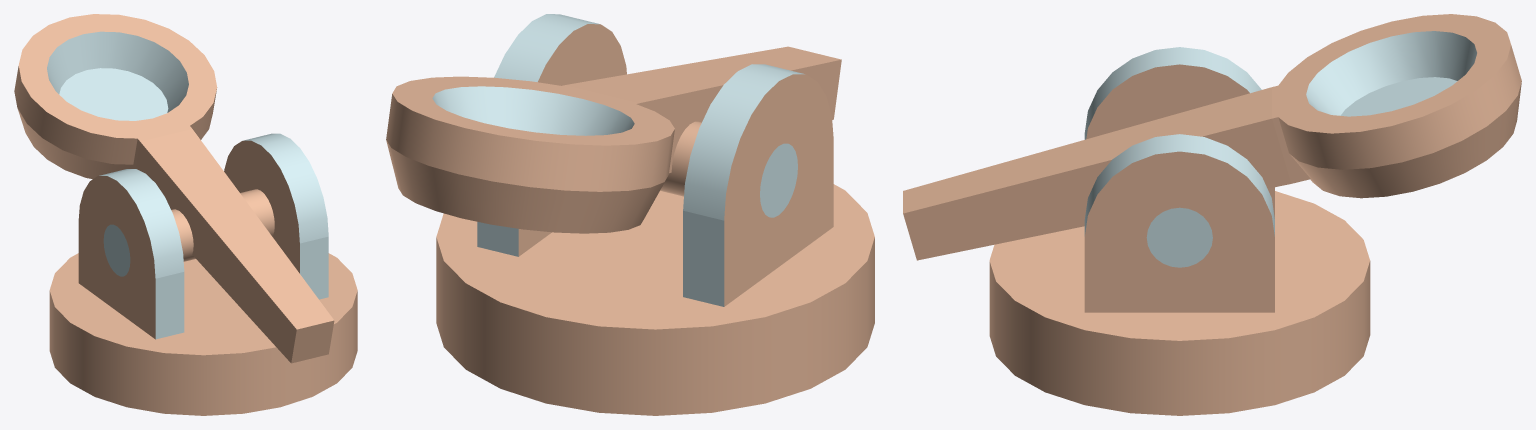
The model's file is weapon_catapult.glb.
3 renders of one model, left to right at view 1: azimuth 30°, elevation 25°; view 2: azimuth 150°, elevation 25°; view 3: azimuth 270°, elevation 25°, orthographic. The views are drawn at different scales.
Parts seen in each view (by area): view 1: weapon_catapult, catapult; view 2: weapon_catapult, catapult; view 3: weapon_catapult, catapult.
Boxes of the visible parts, bbox=[...] form: weapon_catapult: bbox=[49, 133, 357, 415]; catapult: bbox=[14, 14, 334, 363]; weapon_catapult: bbox=[436, 14, 874, 415]; catapult: bbox=[386, 46, 841, 233]; weapon_catapult: bbox=[989, 47, 1370, 415]; catapult: bbox=[903, 14, 1521, 260].
Size of the model in its own units: 0.4598 by 0.3876 by 0.7476.
